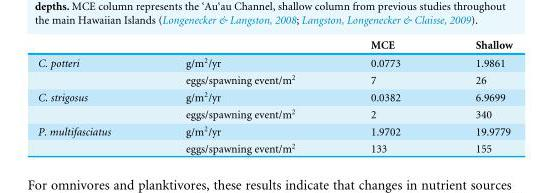table: (37, 36, 512, 154)
table column: (147, 36, 332, 154), (37, 36, 147, 154), (332, 36, 437, 154), (437, 36, 512, 154)
table column header: (37, 36, 512, 52)
table row: (37, 52, 512, 70), (37, 70, 512, 87), (37, 87, 512, 104), (37, 104, 512, 121), (37, 121, 512, 138), (37, 36, 512, 52), (37, 138, 512, 154)
table spanning cell: (37, 52, 147, 87), (37, 87, 147, 121), (37, 121, 147, 154)
